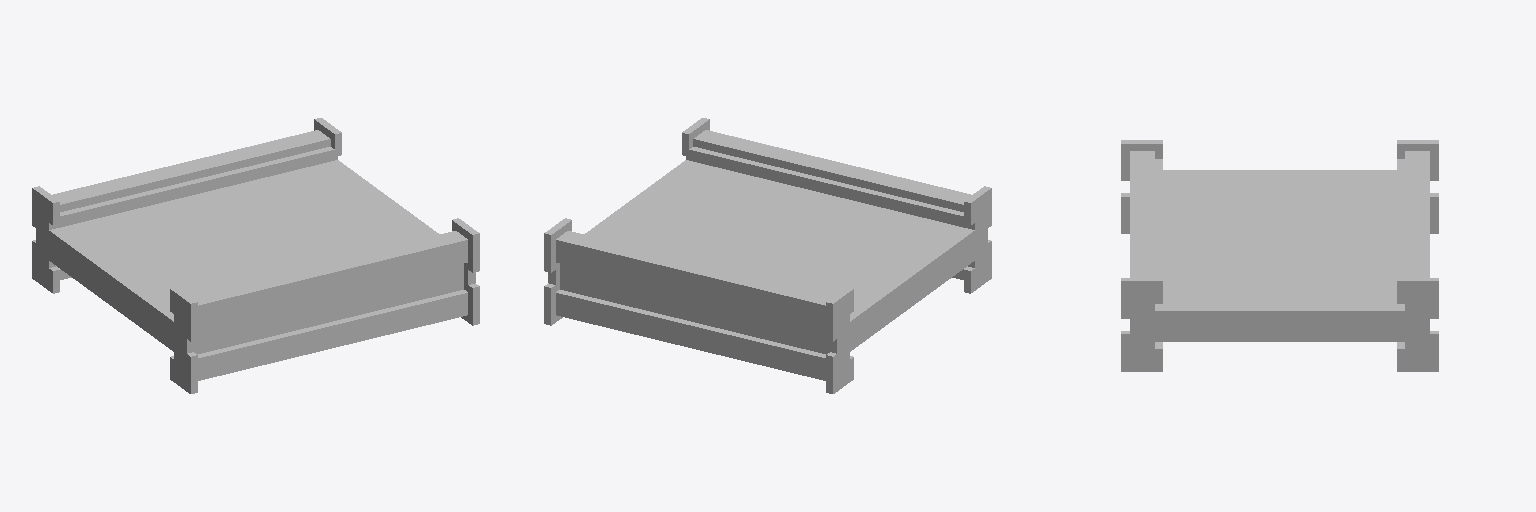
File: conveyor.obj
The picture shows the model from 3 angles: view 1: azimuth 30°, elevation 25°; view 2: azimuth 150°, elevation 25°; view 3: azimuth 270°, elevation 25°; orthographic projection.
Visible parts, largest first — view 1: object 1; view 2: object 1; view 3: object 1.
Boxes of the visible parts, <box> form: object 1: <box>32,118,479,393</box>; object 1: <box>544,118,991,393</box>; object 1: <box>1121,140,1438,371</box>.
Size of the model in its own units: 4 by 1.2 by 3.8.